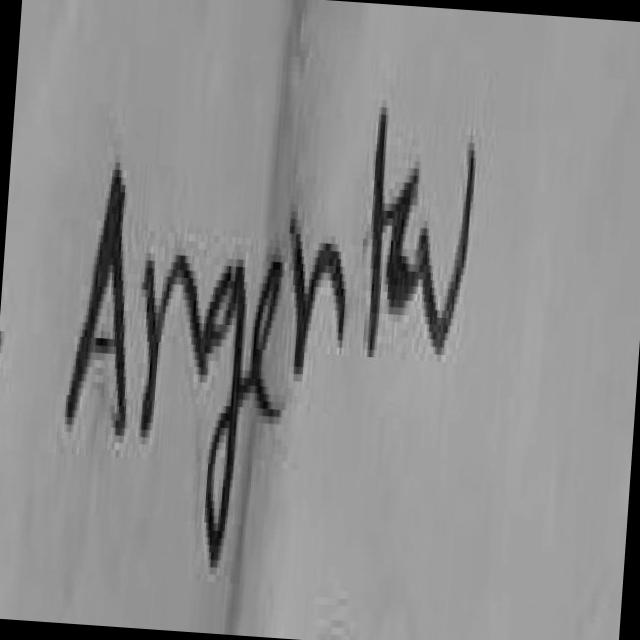A: (65, 169, 125, 432)
a: (386, 177, 440, 354)
e: (251, 261, 284, 413)
g: (204, 266, 246, 564)
n: (140, 248, 206, 433), (294, 239, 346, 370)
t: (368, 107, 392, 353)
